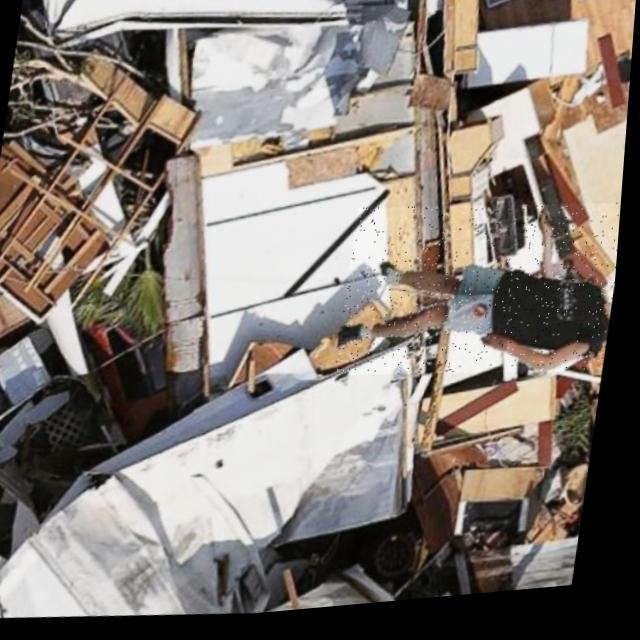Person in Rubble: (338, 196, 626, 401)
